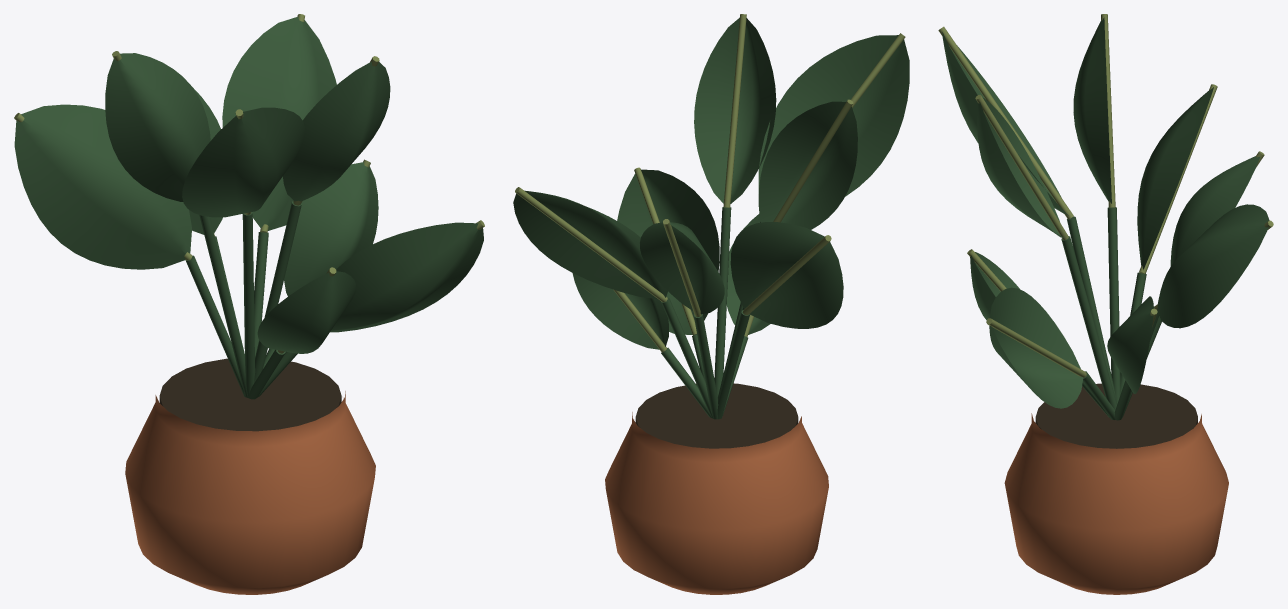
File: broadleaf.glb
The picture shows the model from 3 angles, left to right: view 1: azimuth 30°, elevation 25°; view 2: azimuth 150°, elevation 25°; view 3: azimuth 270°, elevation 25°; orthographic projection. The views are drawn at different scales.
Parts seen in each view (by area): view 1: curved-leaf (×9), part (×7); view 2: curved-leaf (×9), part (×15); view 3: part (×12), curved-leaf (×9).
Part boxes in pixels (<box>): curved-leaf (×9): <box>14,16,483,353</box>; part (×7): <box>125,201,375,594</box>; curved-leaf (×9): <box>513,17,909,349</box>; part (×15): <box>515,14,905,594</box>; part (×12): <box>938,14,1228,594</box>; curved-leaf (×9): <box>942,17,1269,408</box>.
Size of the model in its own units: 1.37 by 2.04 by 1.26.
